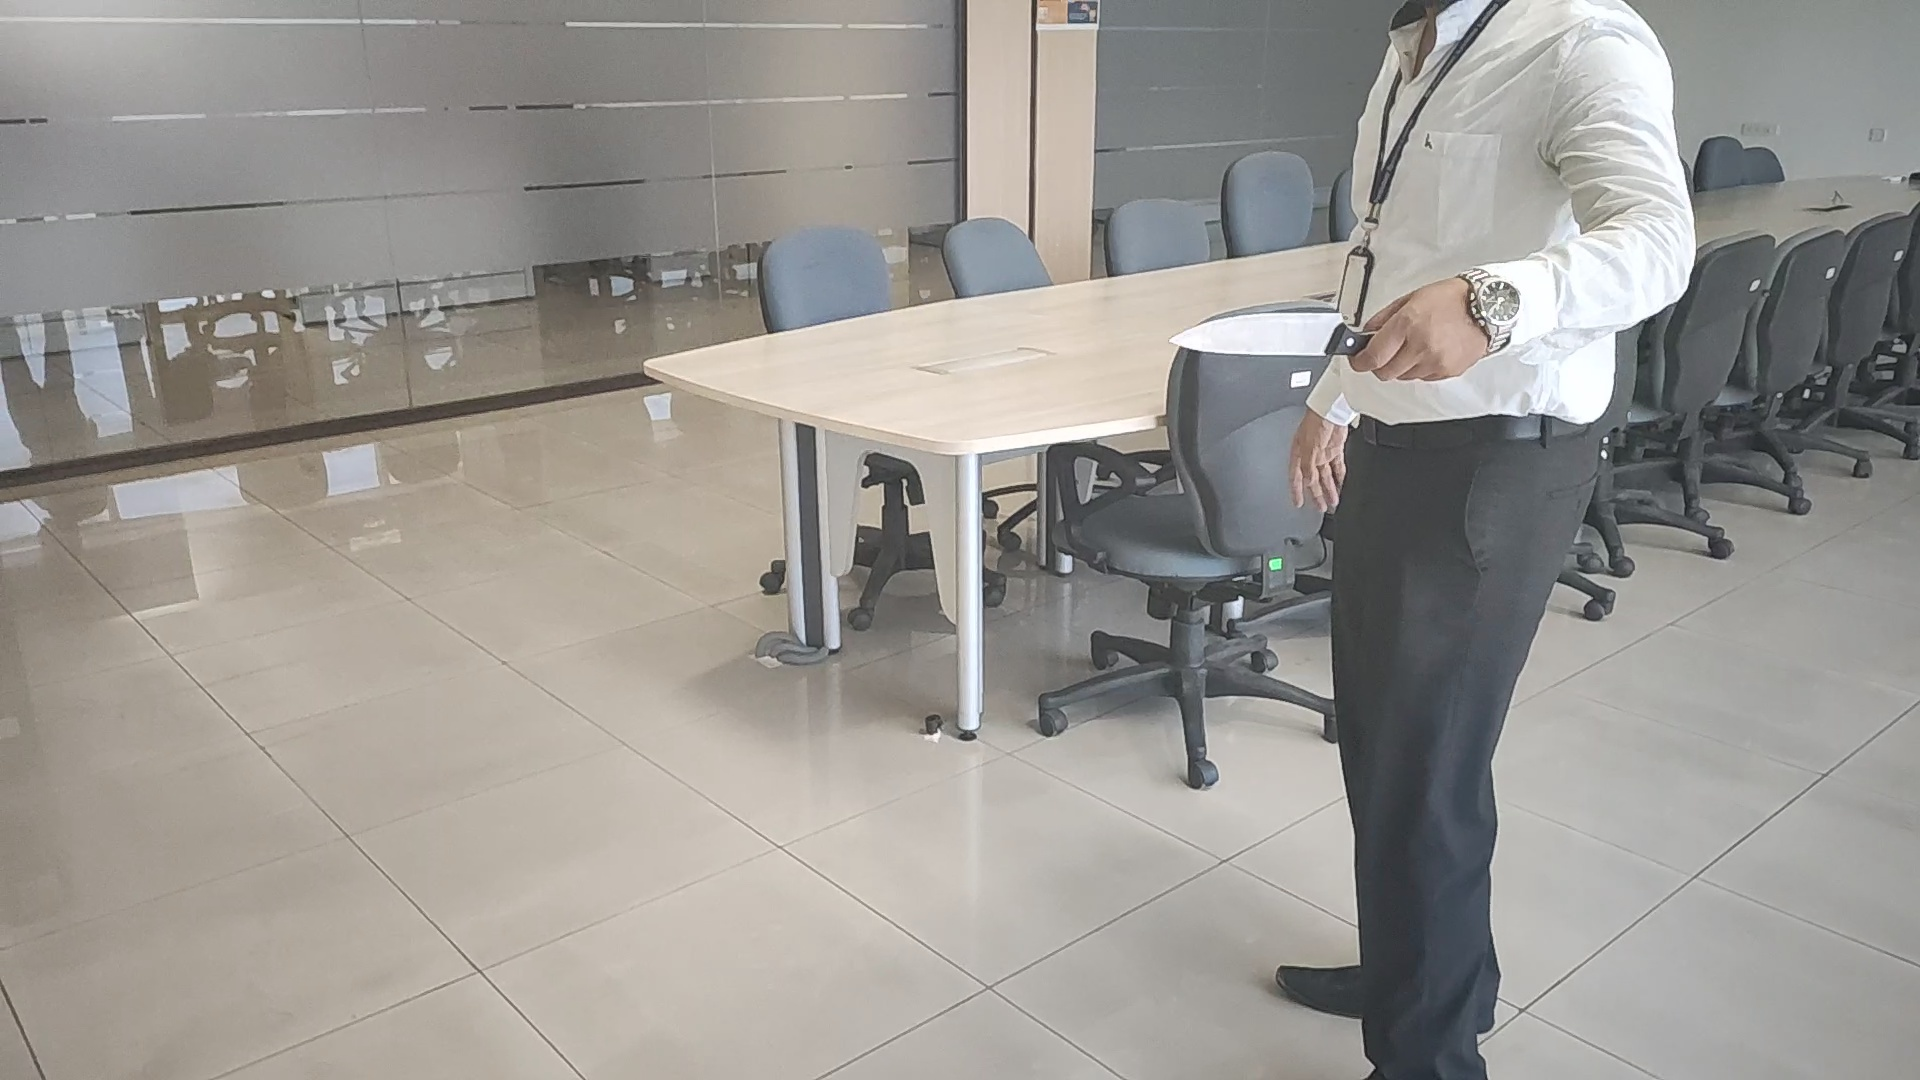knife: (1172, 307, 1365, 363)
